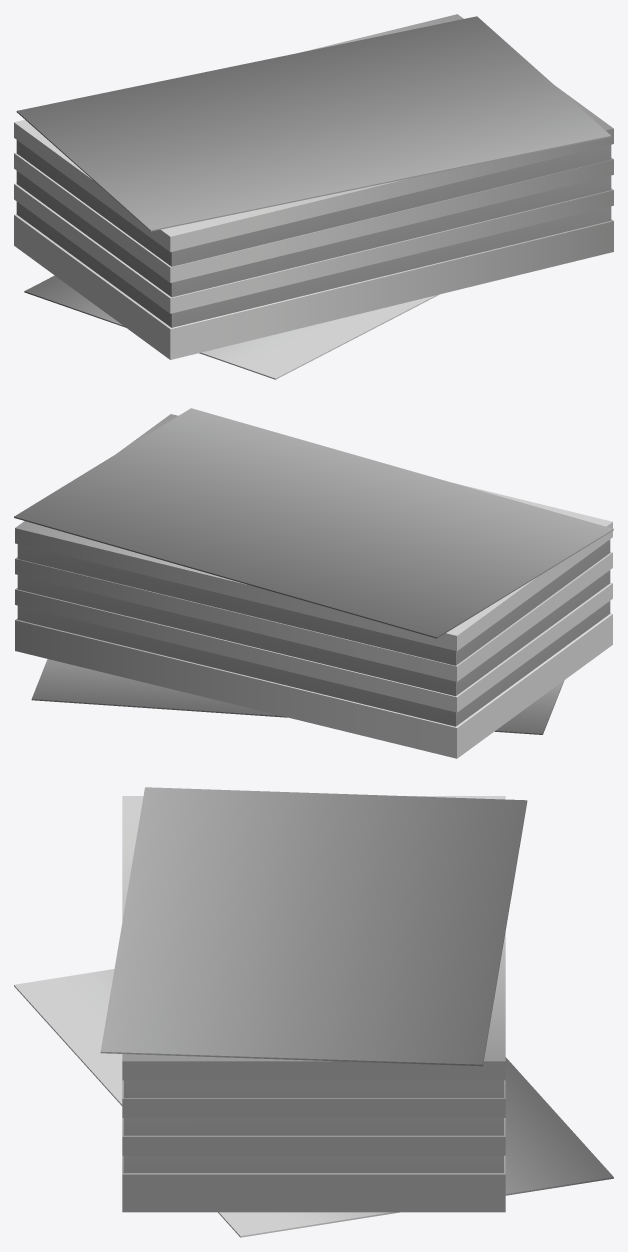
The model's file is Stackpaper.fbx.
3 renders of one model, top to bottom at view 1: azimuth 30°, elevation 25°; view 2: azimuth 150°, elevation 25°; view 3: azimuth 270°, elevation 25°, orthographic. The views are drawn at different scales.
Parts seen in each view (by area): view 1: Cube, Cube.002, Cube.001; view 2: Cube, Cube.002, Cube.001; view 3: Cube.002, Cube, Cube.001.
Boxes of the visible parts, box(x1,y1,x2,y2) form: Cube: box(14, 14, 613, 359); Cube.002: box(16, 16, 611, 231); Cube.001: box(24, 275, 439, 379); Cube: box(15, 414, 612, 758); Cube.002: box(14, 408, 613, 638); Cube.001: box(31, 659, 564, 734); Cube.002: box(100, 787, 527, 1066); Cube: box(122, 796, 505, 1212); Cube.001: box(14, 969, 613, 1237).
Size of the model in its own units: 29.46 by 6.92 by 24.06.
